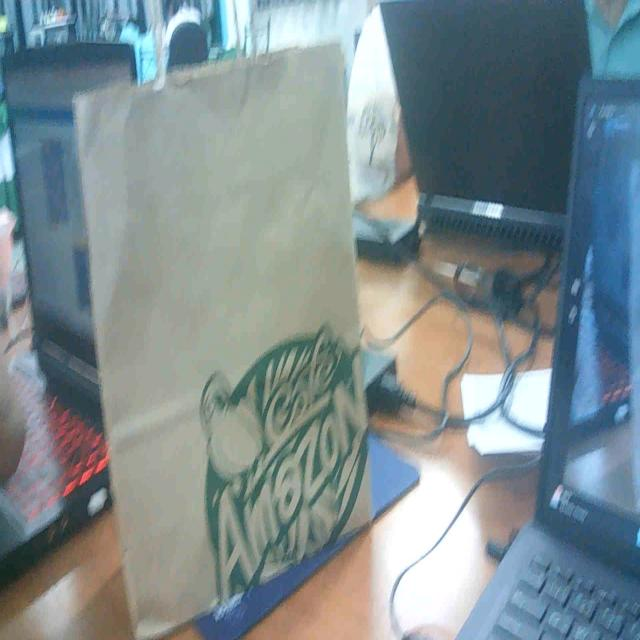bag: (77, 68, 368, 591)
